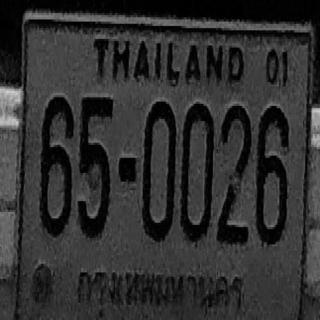N00: (180, 102, 214, 242), (142, 100, 176, 240)
N02: (216, 104, 251, 244)
N05: (78, 95, 113, 238)
N06: (40, 95, 73, 236), (256, 105, 289, 245)
P04: (74, 259, 248, 316)
